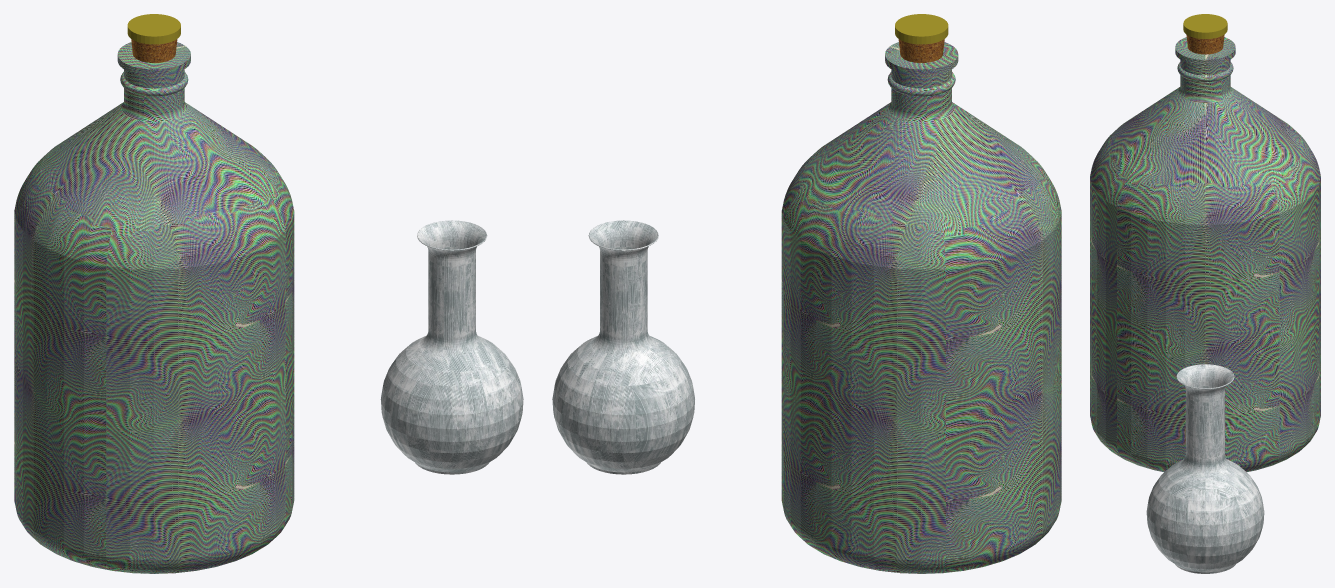
Rendered from glass.fbx.
3 views of the same model, side by side, from view 1: azimuth 30°, elevation 25°; view 2: azimuth 150°, elevation 25°; view 3: azimuth 270°, elevation 25° (orthographic). The views are drawn at different scales.
Parts seen in each view (by area): view 1: Отделка фасада (×4); view 2: Отделка фасада (×4); view 3: Отделка фасада (×4).
Boxes of the visible parts, x1,y1,x2,y2 form: Отделка фасада (×4): [14, 14, 523, 573]; Отделка фасада (×4): [552, 14, 1061, 573]; Отделка фасада (×4): [1090, 14, 1320, 573].
Bounding box in the file's own units: 932 × 470 × 937.
7 materials, 6 textured.
